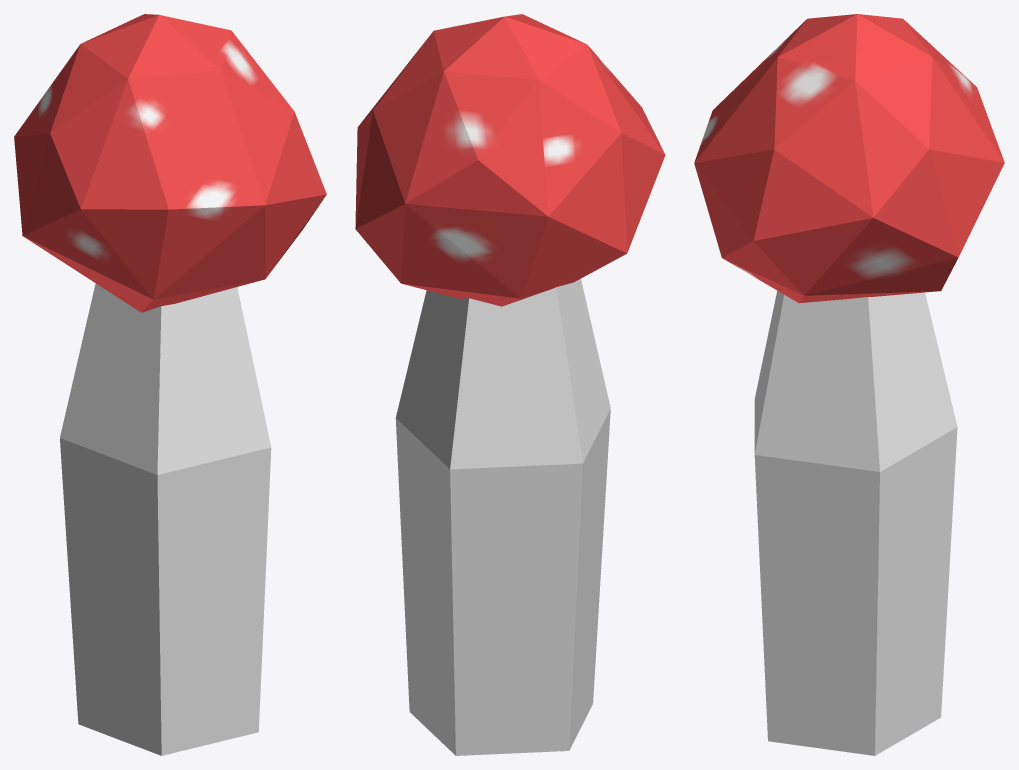
Rendered from Mushroom_e_04.fbx.
3 views of the same model, side by side, from view 1: azimuth 30°, elevation 25°; view 2: azimuth 150°, elevation 25°; view 3: azimuth 270°, elevation 25° (orthographic).
Visible parts, largest first — view 1: Mushroom_e_04; view 2: Mushroom_e_04; view 3: Mushroom_e_04.
Boxes of the visible parts, x1,y1,x2,y2 form: Mushroom_e_04: (14,14,326,755); Mushroom_e_04: (355,14,665,755); Mushroom_e_04: (694,14,1004,755).
Size of the model in its own units: 0.1031 by 0.2592 by 0.1042.
